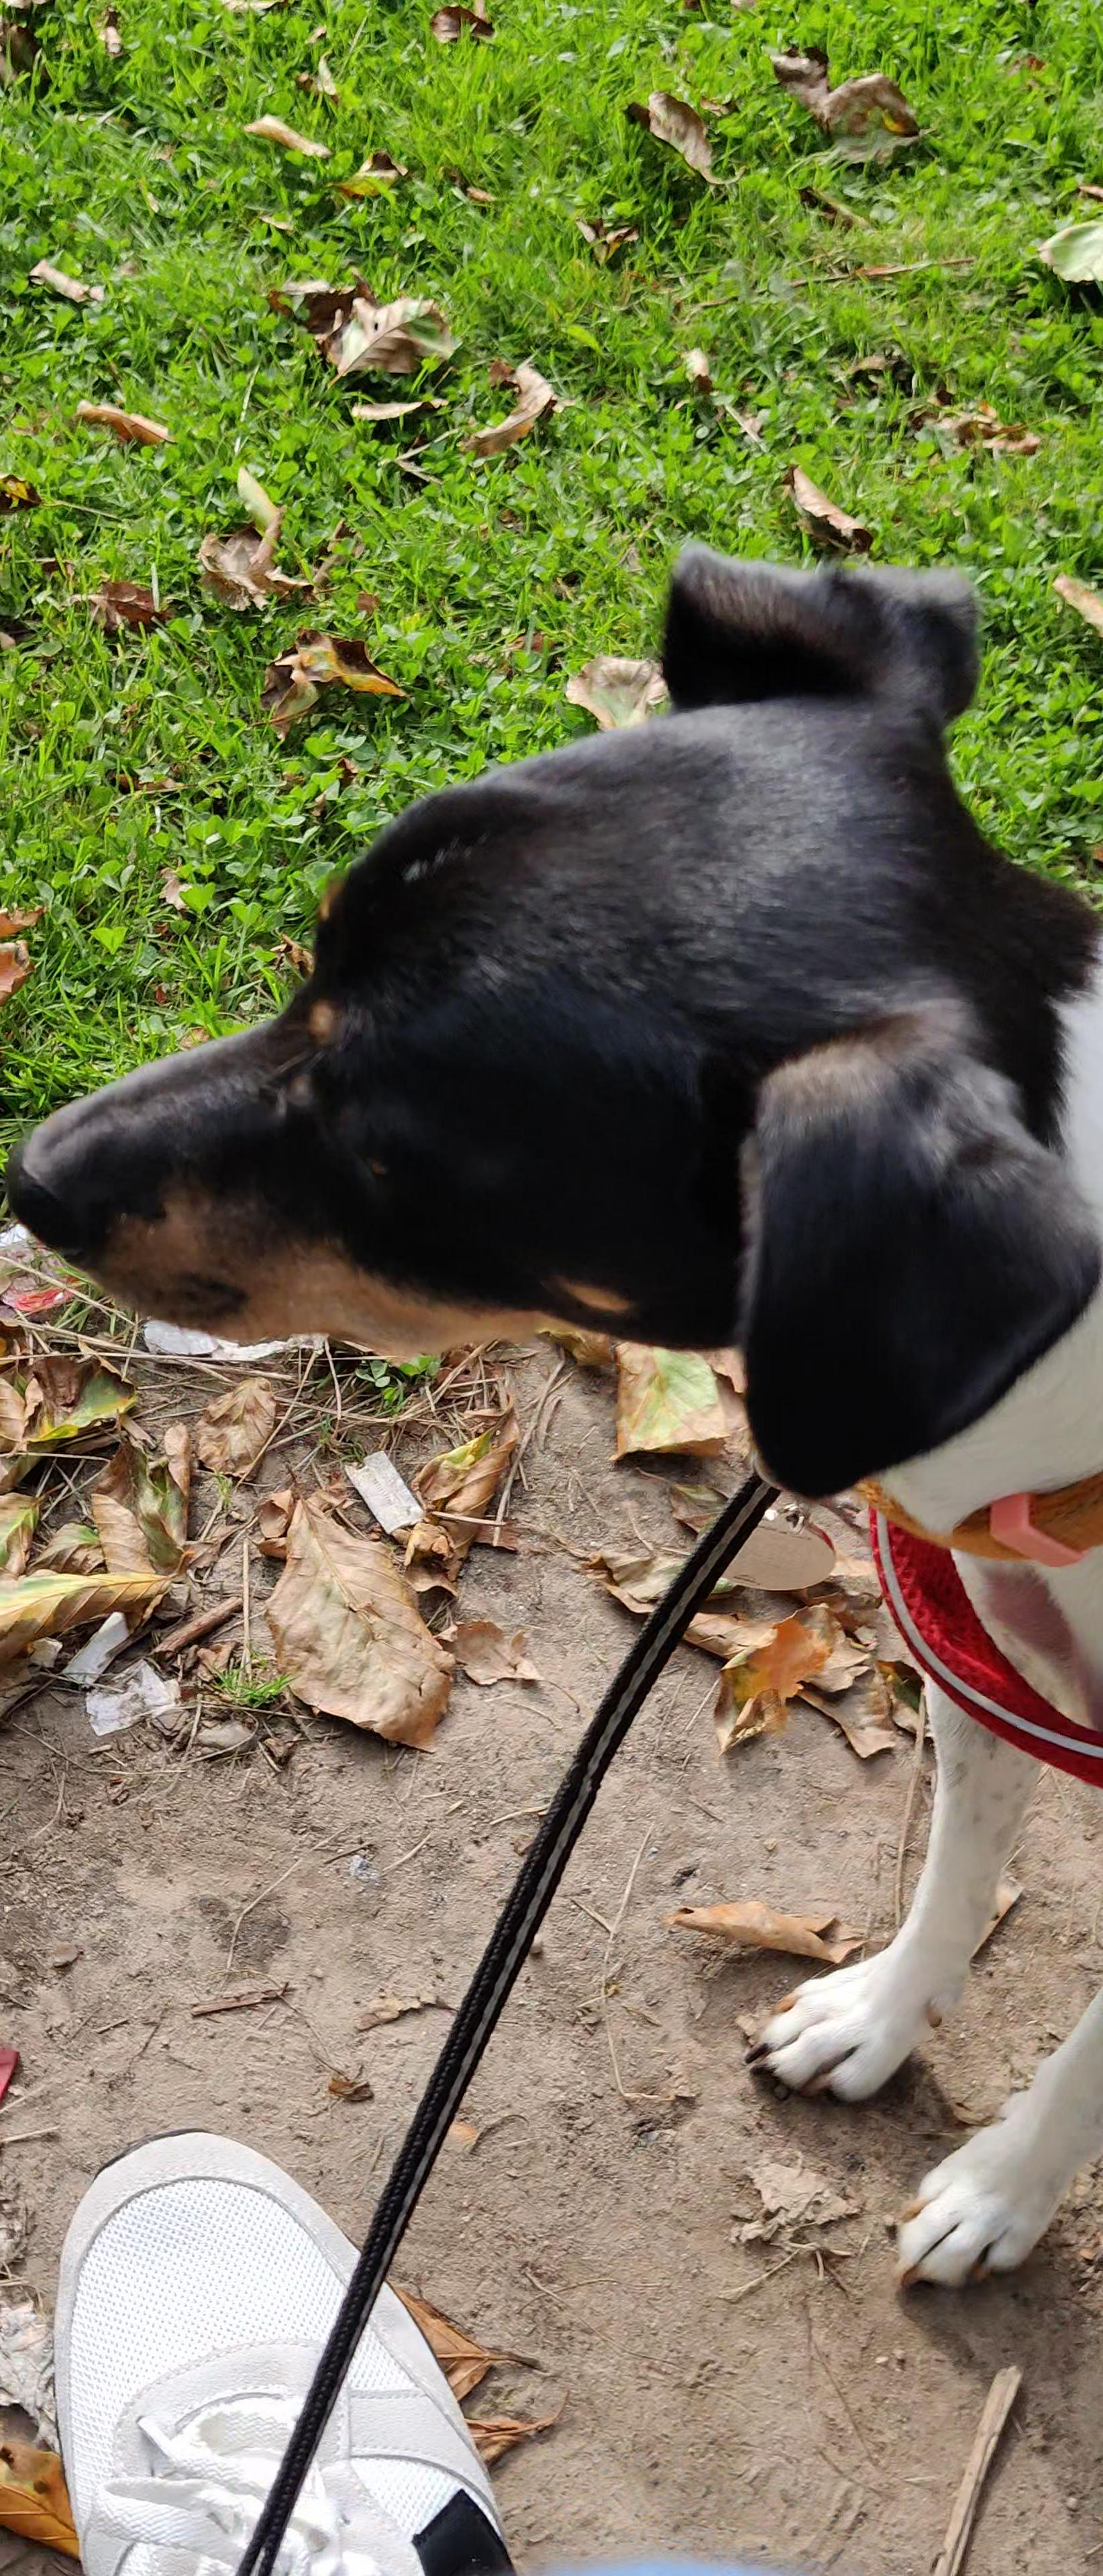Dog: (0, 514, 1103, 2308)
